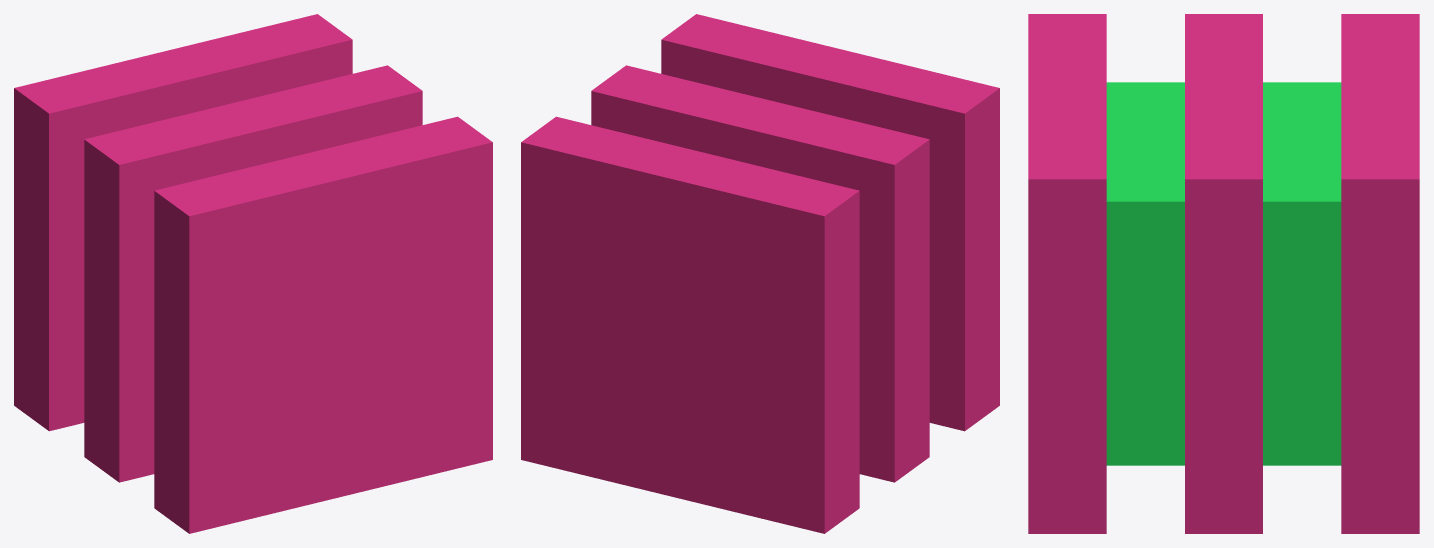
3 views of the same model, side by side, from view 1: azimuth 30°, elevation 25°; view 2: azimuth 150°, elevation 25°; view 3: azimuth 270°, elevation 25° (orthographic). The views are drawn at different scales.
Parts seen in each view (by area): view 1: Cube; view 2: Cube; view 3: Cube.
Part boxes in pixels (bbox=[...]): Cube: bbox=[14, 14, 492, 533]; Cube: bbox=[521, 14, 999, 533]; Cube: bbox=[1028, 14, 1419, 533].
Size of the model in its own units: 200 by 200 by 200.
